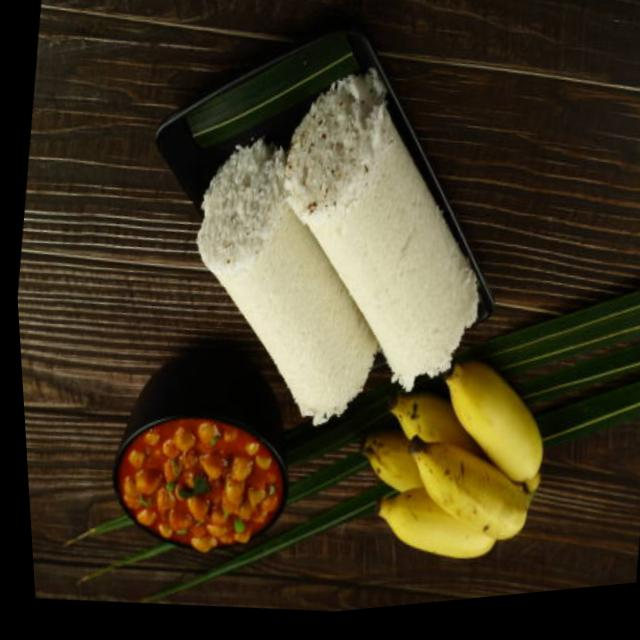BANANA: (355, 361, 544, 566)
CURRY: (116, 421, 285, 549)
PUTTU: (191, 72, 488, 427)
